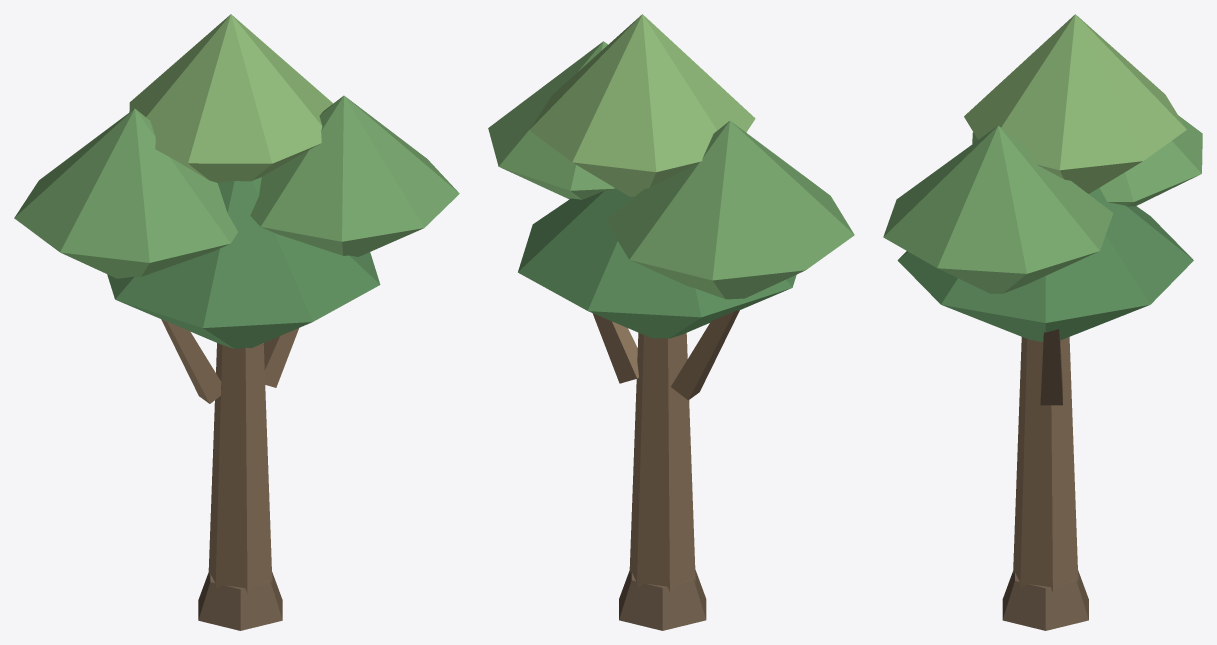
File: tree.glb
3 views of the same model, side by side, from view 1: azimuth 30°, elevation 25°; view 2: azimuth 150°, elevation 25°; view 3: azimuth 270°, elevation 25° (orthographic). The views are drawn at different scales.
Visible parts, largest first — view 1: Tree; view 2: Tree; view 3: Tree.
Part boxes in pixels (box(x1,y1,x2,y2)): Tree: box(14, 14, 459, 630); Tree: box(488, 14, 854, 630); Tree: box(883, 14, 1202, 630).
Bounding box in the file's own units: 3.59 × 5.57 × 2.69.
